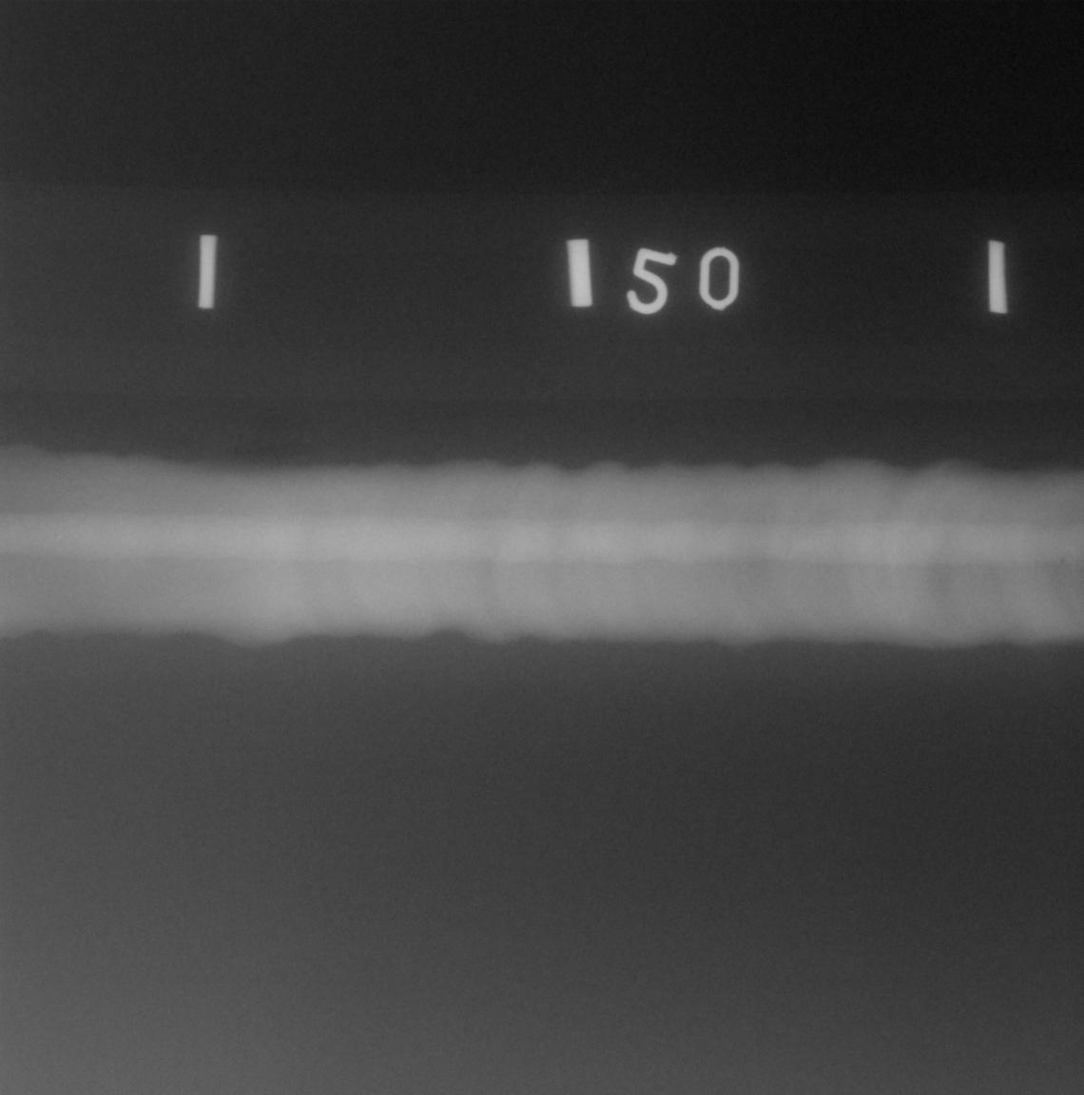Pore/Porosity: (1061, 559, 1066, 563)
